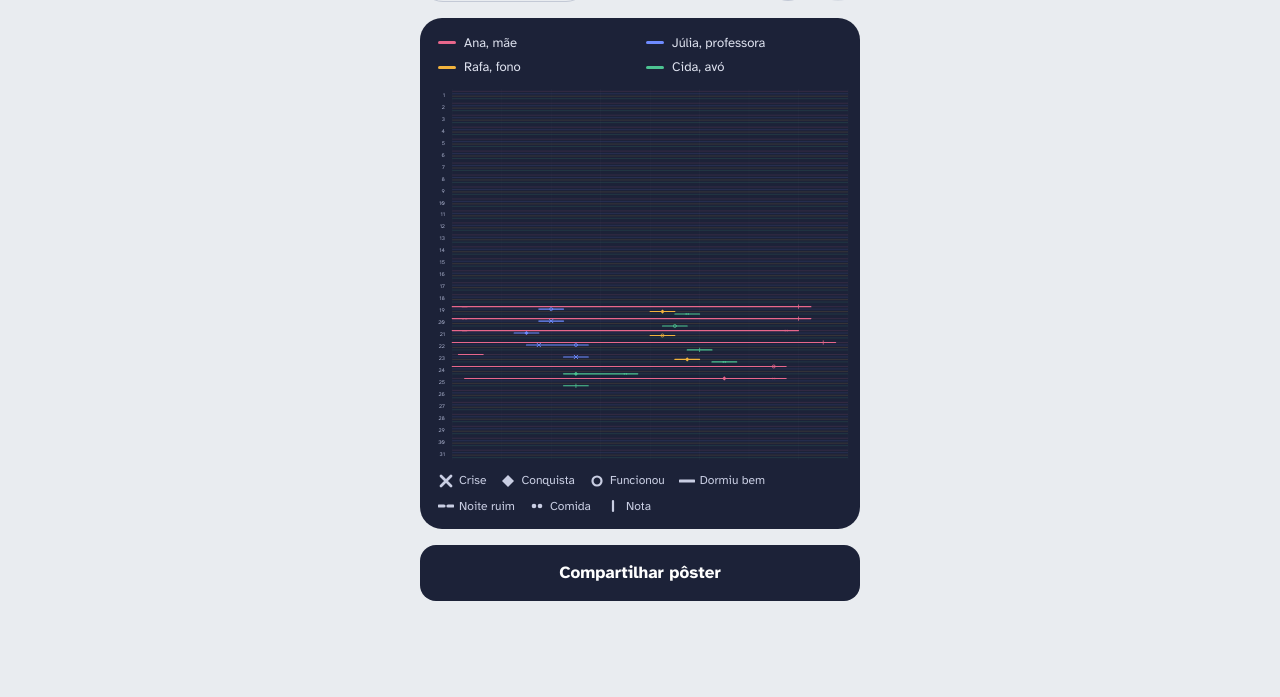
it: "Compartilhar pôster" abre o diálogo com as duas opções desmarcadas
(page scrolled)
Click the button "Compartilhar pôster".
click(640, 573)  # box top-left (420, 545), bottom-right (860, 601)
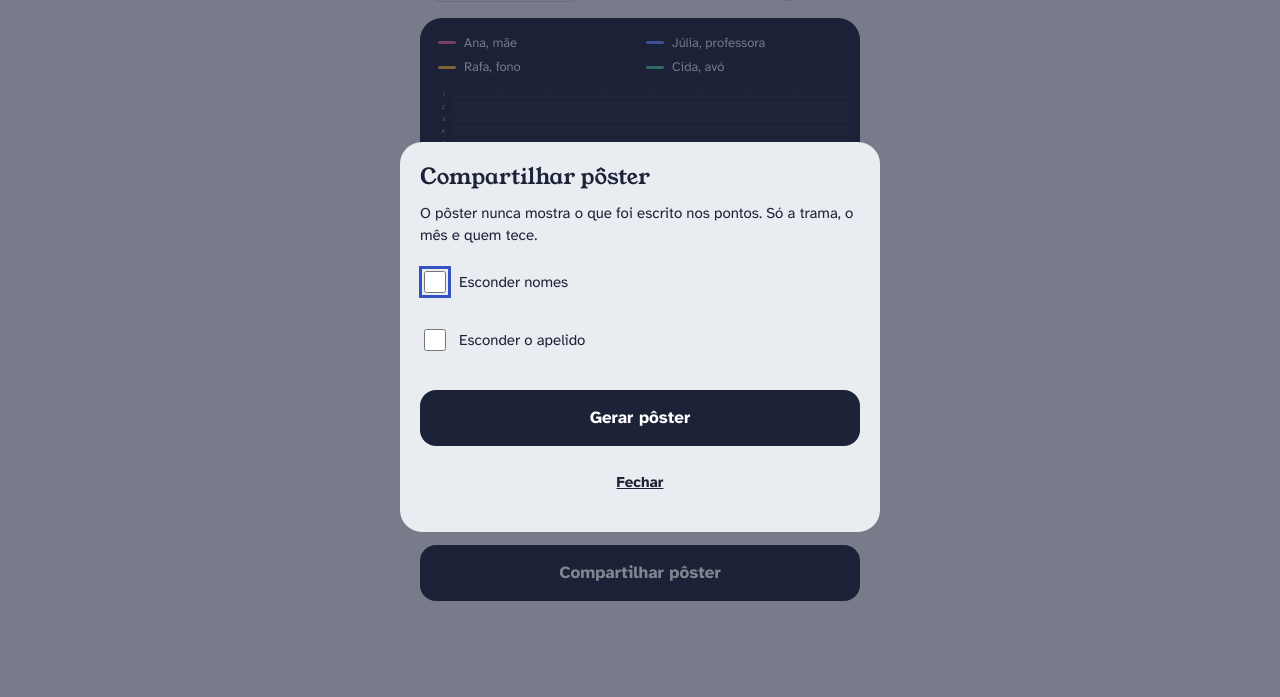
Check: the checkbox labelled "Esconder nomes" is not checked, box top-left (424, 271), bottom-right (446, 293)
Check: the checkbox labelled "Esconder o apelido" is not checked, box top-left (424, 329), bottom-right (446, 351)
Check: the dialog shows "O pôster nunca mostra o que foi escrito nos pontos.", box top-left (420, 204), bottom-right (853, 244)
